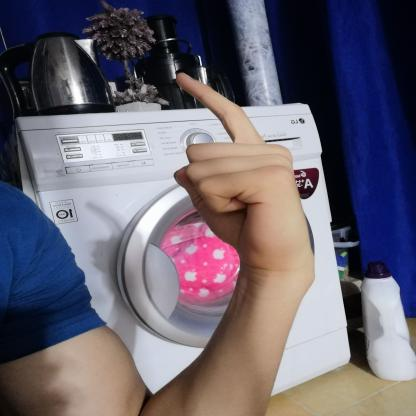RAA: (155, 60, 339, 278)
